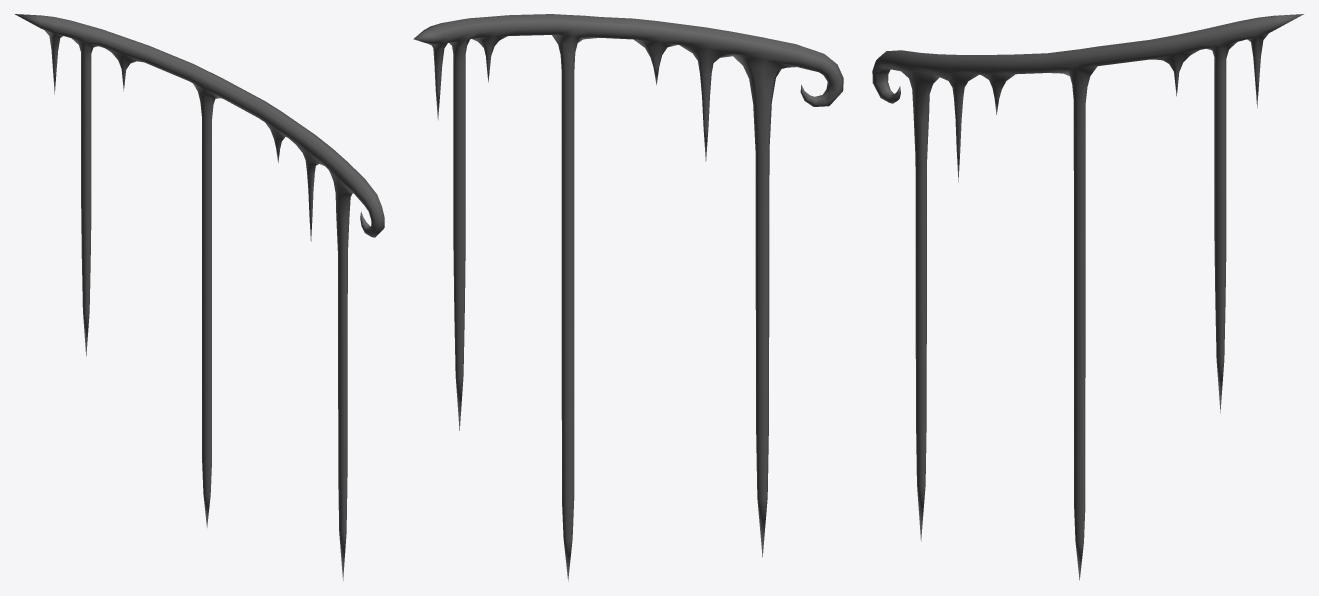
File: SM_Aurora_Stairs_Railing.glb
The picture shows the model from 3 angles, left to right: view 1: azimuth 90°, elevation 25°; view 2: azimuth 150°, elevation 25°; view 3: azimuth 270°, elevation 25°; orthographic projection. The views are drawn at different scales.
Visible parts, largest first — view 1: SM_Aurora_Stairs_Railing; view 2: SM_Aurora_Stairs_Railing; view 3: SM_Aurora_Stairs_Railing.
Boxes of the visible parts, x1,y1,x2,y2 form: SM_Aurora_Stairs_Railing: (15, 14, 384, 580); SM_Aurora_Stairs_Railing: (413, 14, 843, 581); SM_Aurora_Stairs_Railing: (872, 14, 1303, 580).
Bounding box in the file's own units: 0.8074 × 2.28 × 1.5.
Materials: 1 (1 with a texture image).
